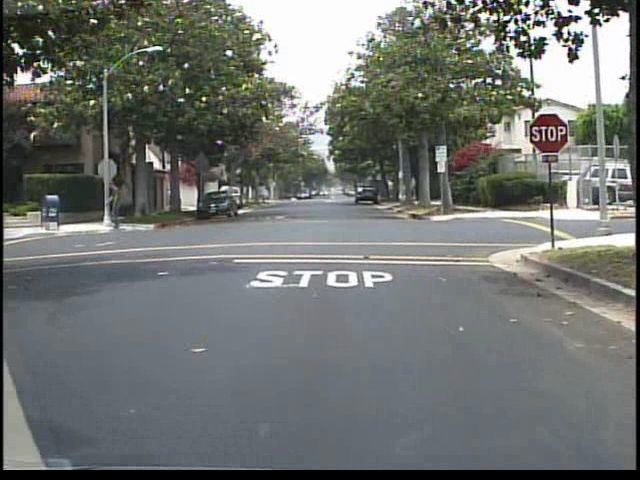person: (103, 173, 130, 233)
